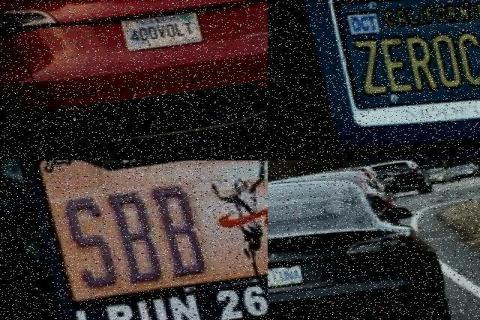LicensePlate: (56, 160, 268, 292), (322, 0, 480, 136), (118, 11, 202, 51), (266, 264, 303, 288)
